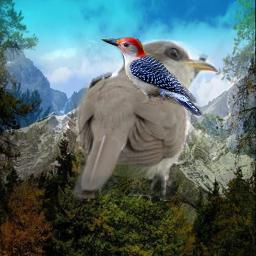Cuckoo: (70, 39, 218, 201)
Woodpecker: (101, 37, 203, 116)
